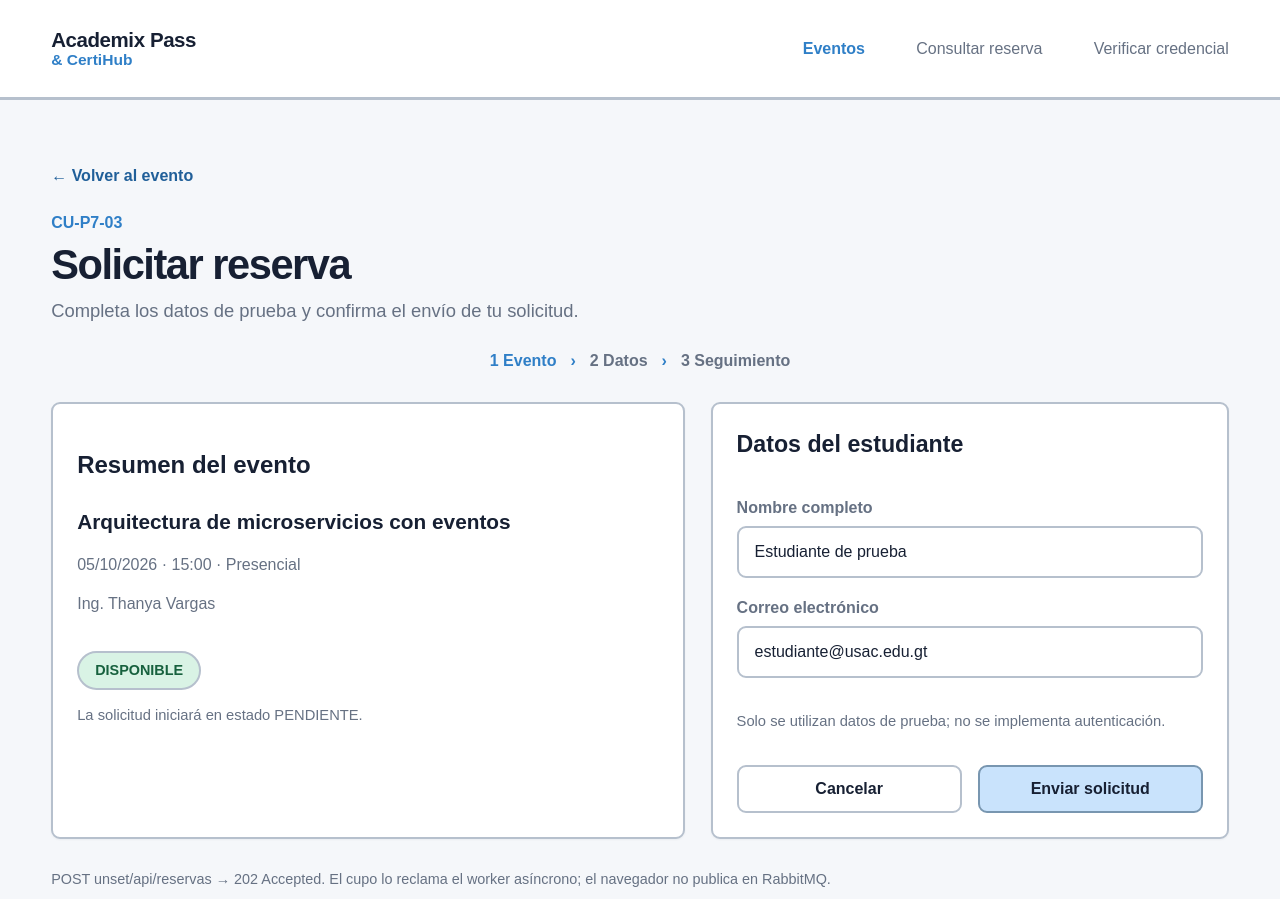
Scenario: Solicitud de reserva › rechaza un correo de un dominio que el productor no admite
expect the heading "Datos del estudiante" is shown: met, box [737,431,963,457]
Replace the text in the field labelled "Correo electrónico" with "alguien@ejemplo.com" at x=970, y=652, box [737,626,1203,678]
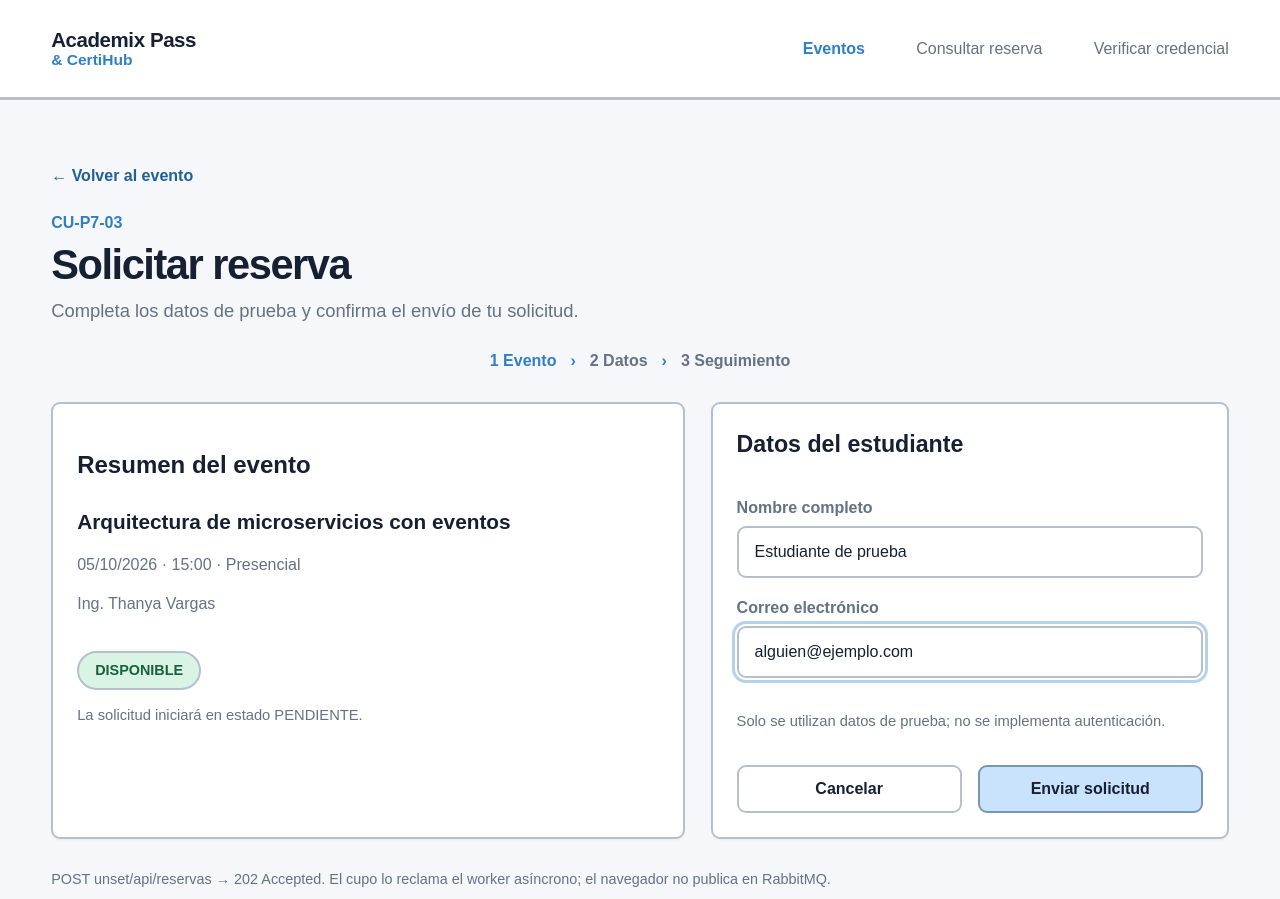
Click the button "Enviar solicitud" at x=1090, y=789, box [978,765,1203,813]
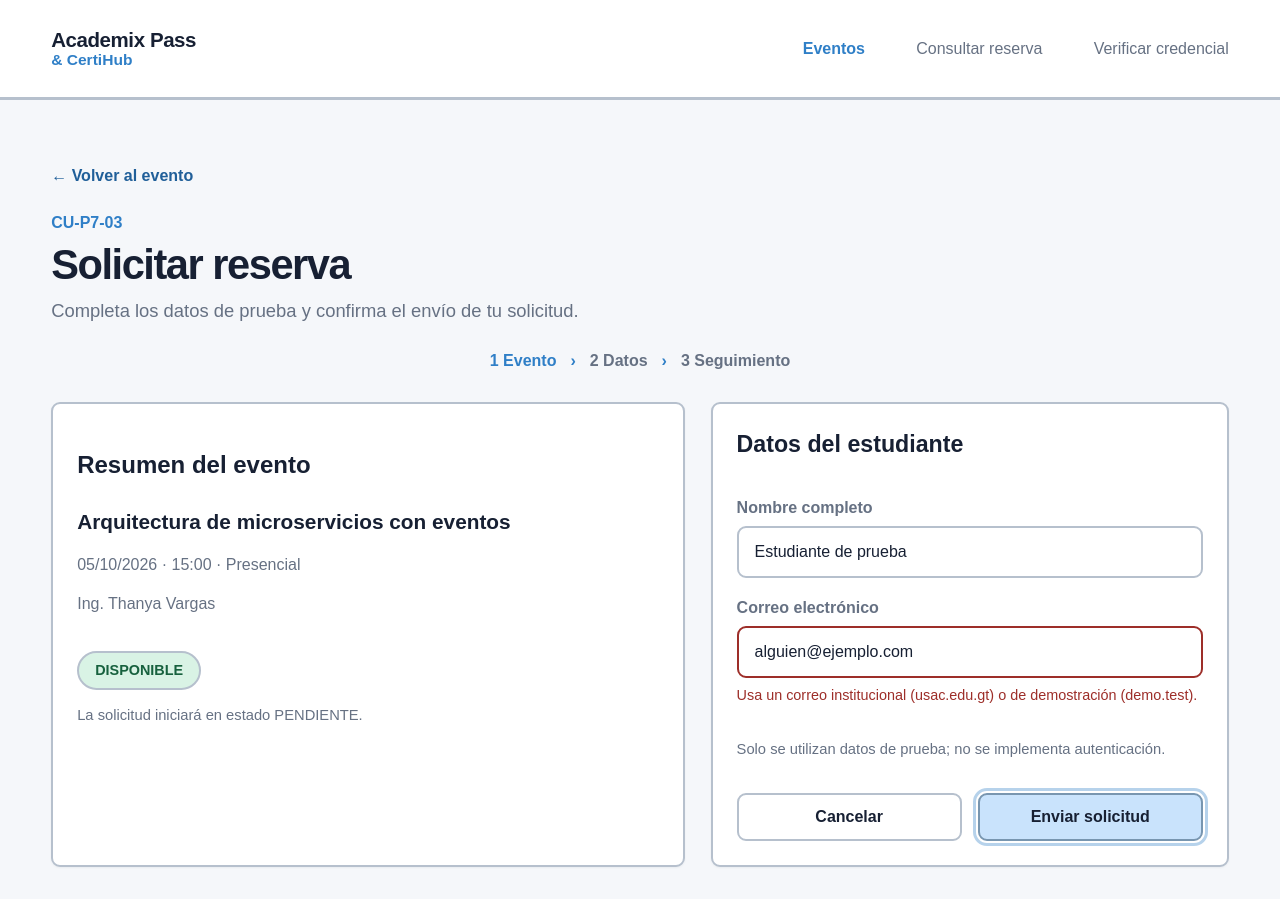
expect the text "Usa un correo institucional (usac.edu.gt) o de demostración (demo.test)." is shown: met, box [737,685,1203,706]
